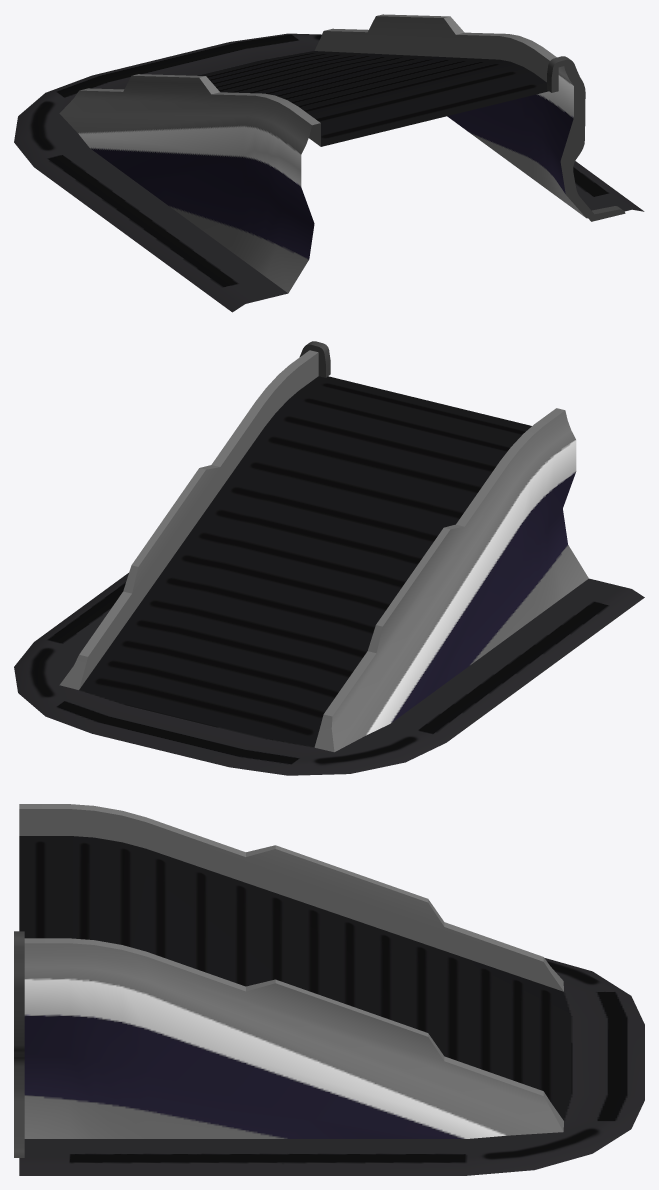
Rendered from stair.glb.
The picture shows the model from 3 angles, top to bottom: view 1: azimuth 30°, elevation 25°; view 2: azimuth 150°, elevation 25°; view 3: azimuth 270°, elevation 25°; orthographic projection. The views are drawn at different scales.
Parts seen in each view (by area): view 1: structural_ramp; view 2: structural_ramp; view 3: structural_ramp.
Boxes of the visible parts, <box> form: structural_ramp: <box>14,14,644,312</box>; structural_ramp: <box>14,341,644,775</box>; structural_ramp: <box>14,804,644,1175</box>.
Size of the model in its own units: 6 by 2.41 by 7.06.
1 material, 1 textured.
